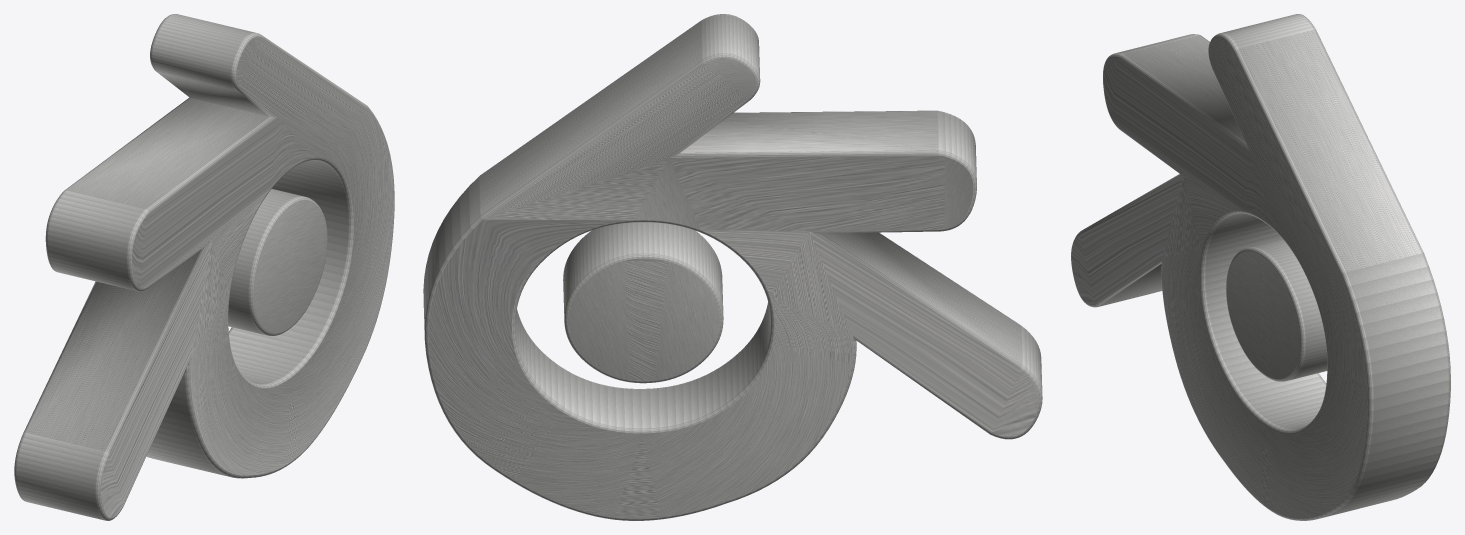
The model's file is blender.dae.
The picture shows the model from 3 angles, left to right: view 1: azimuth 30°, elevation 25°; view 2: azimuth 150°, elevation 25°; view 3: azimuth 270°, elevation 25°; orthographic projection. The views are drawn at different scales.
Parts seen in each view (by area): view 1: Logo; view 2: Logo; view 3: Logo.
Part boxes in pixels (x1=…): Logo: x1=14, y1=14, x2=394, y2=520; Logo: x1=423, y1=14, x2=1042, y2=520; Logo: x1=1071, y1=14, x2=1450, y2=520.
Bounding box in the file's own units: 3.21 × 2.21 × 2.85.
Materials: 1 (1 with a texture image).
